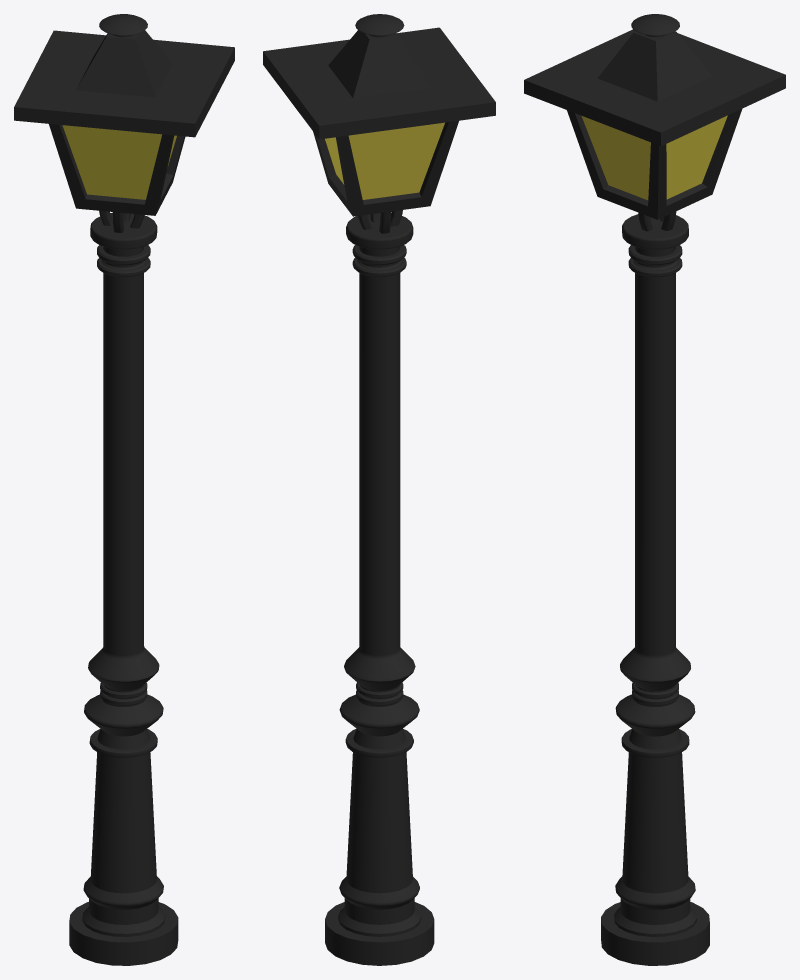
File: lamp.glb
The picture shows the model from 3 angles, left to right: view 1: azimuth 30°, elevation 25°; view 2: azimuth 150°, elevation 25°; view 3: azimuth 270°, elevation 25°; orthographic projection.
Parts seen in each view (by area): view 1: StreetLight.005; view 2: StreetLight.005; view 3: StreetLight.005.
Part boxes in pixels (x1,y1,x2,y2): StreetLight.005: [14, 14, 234, 965]; StreetLight.005: [263, 14, 495, 965]; StreetLight.005: [524, 14, 785, 965].
Bounding box in the file's own units: 0.2338 × 0.9098 × 0.2338.
